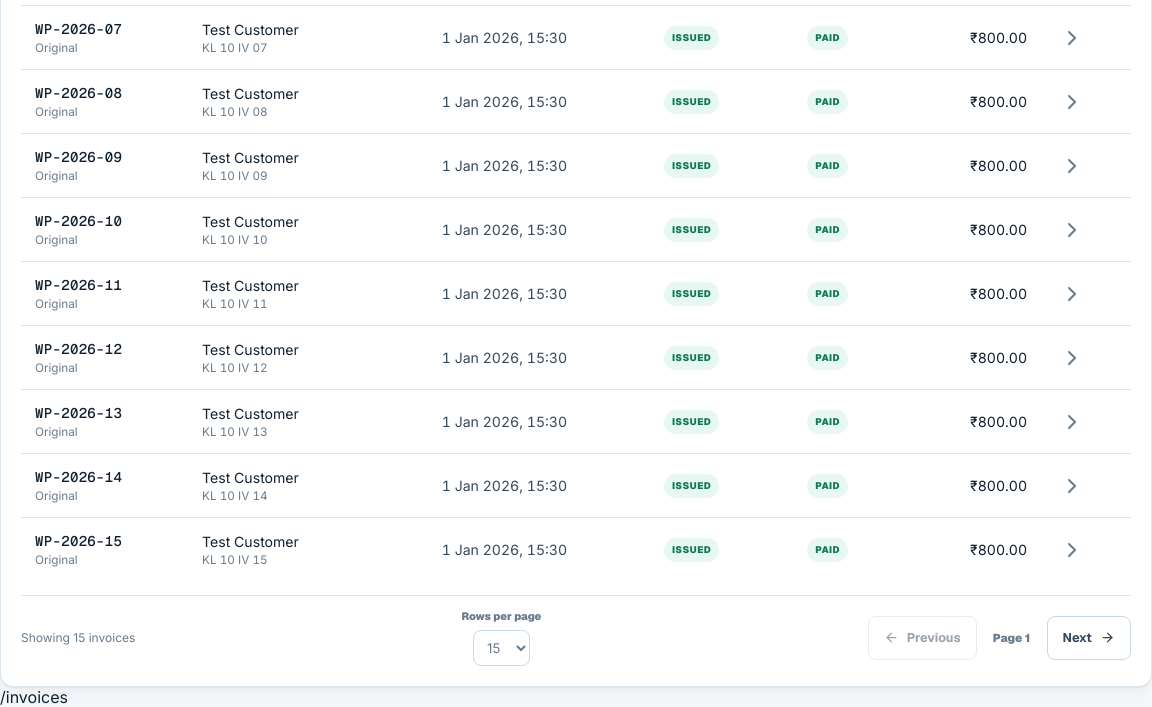
Invoices directory — server-side pagination › resets to page 1 without a cursor when the search changes
(page scrolled)
Click the button "Next" at (1089, 638), box [1047,616,1131,660]
(page scrolled)
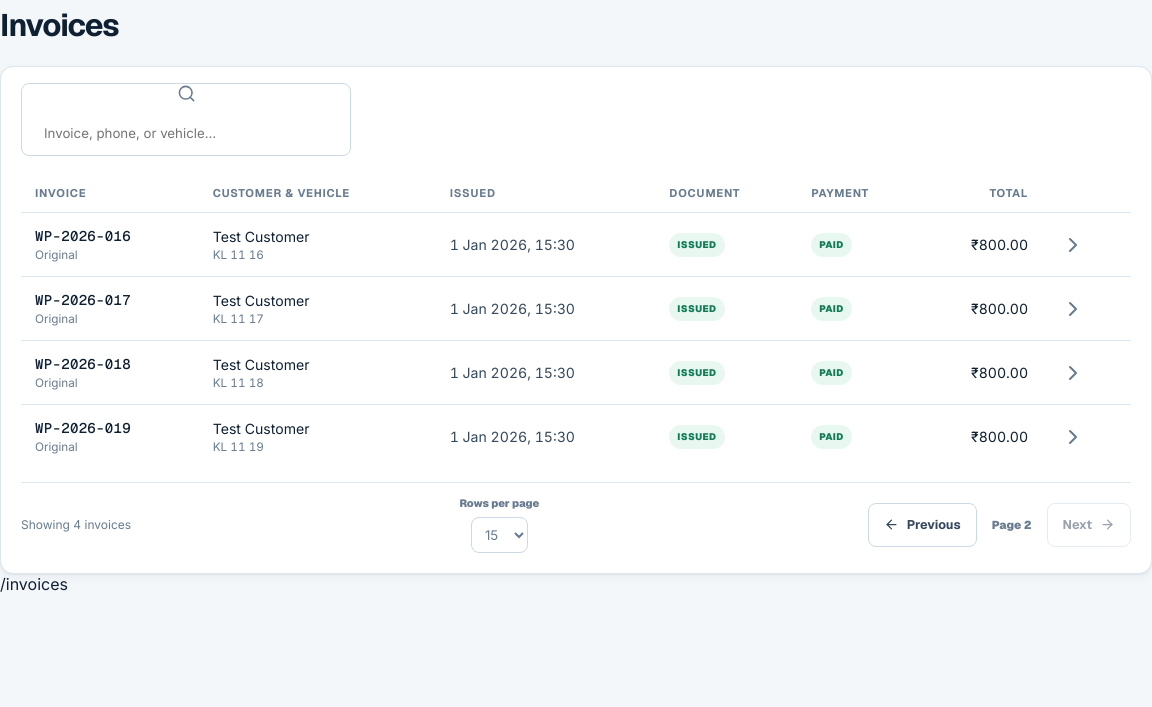
Result: the text "WP-2026-016" is shown at [35,227,131,245]
Type "WP-2026-000099" into the search field with placeholder "Invoice, phone, or vehicle…" at (186, 133), box [33,111,339,155]
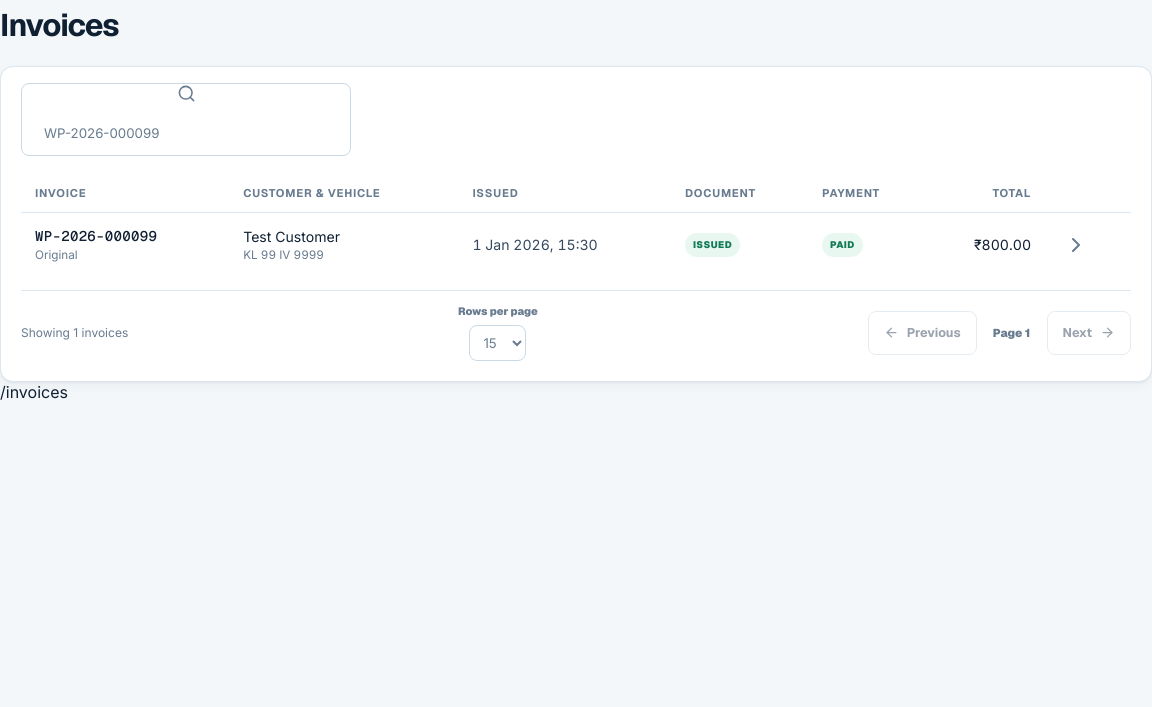
Result: the text "Page 1" is shown at [993,325,1030,340]
Result: the text "Showing 1 invoices" is shown at [21,325,128,340]
